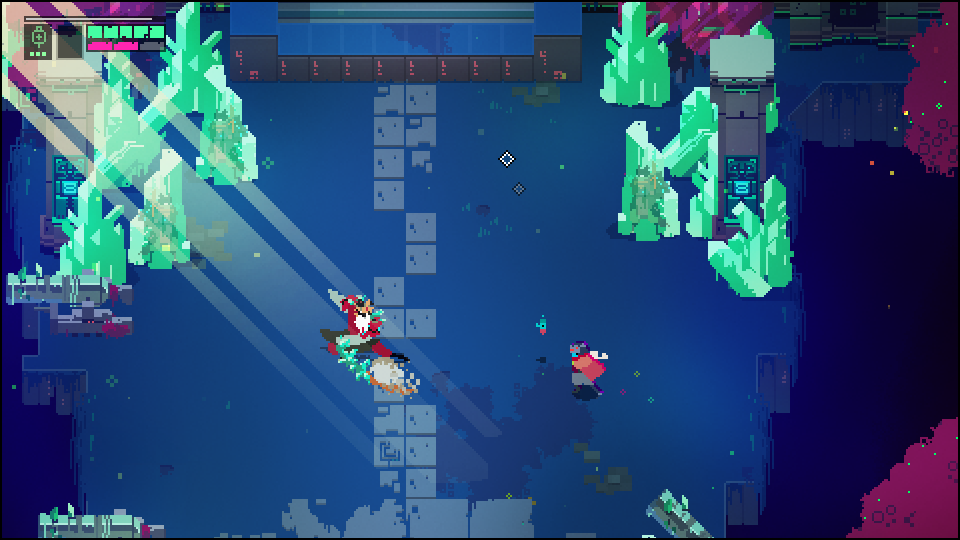hanged_man: (319, 287, 413, 401)
player: (568, 340, 605, 393)
